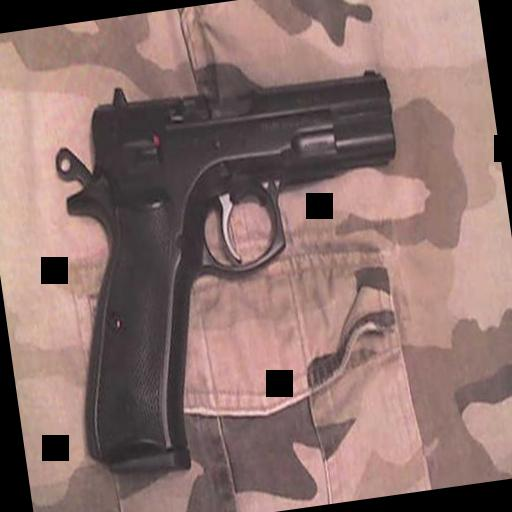Handgun: (32, 49, 438, 476)
